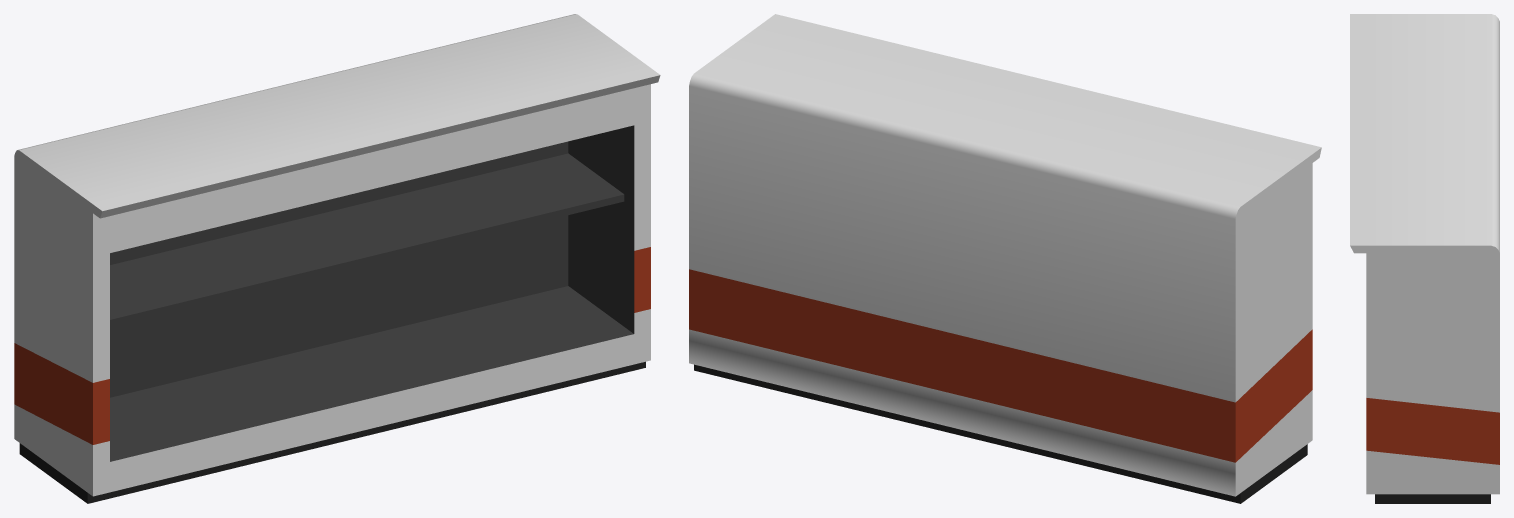
Rendered from Desk_3.fbx.
3 renders of one model, left to right at view 1: azimuth 30°, elevation 25°; view 2: azimuth 150°, elevation 25°; view 3: azimuth 270°, elevation 25°, orthographic. The views are drawn at different scales.
Visible parts, largest first — view 1: Desk_3; view 2: Desk_3; view 3: Desk_3.
Part boxes in pixels (<box>): Desk_3: <box>14,14,660,503</box>; Desk_3: <box>689,14,1321,503</box>; Desk_3: <box>1350,14,1499,503</box>.
Bounding box in the file's own units: 200 × 104 × 54.67.
